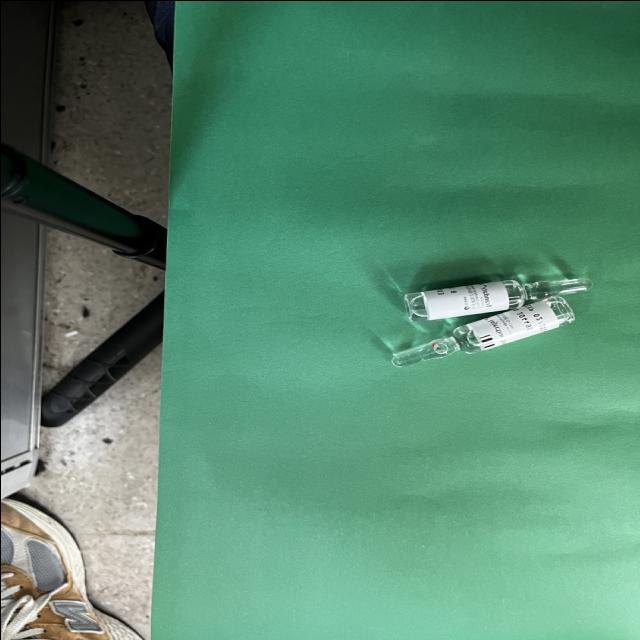Ampoules: (391, 276, 589, 366)
